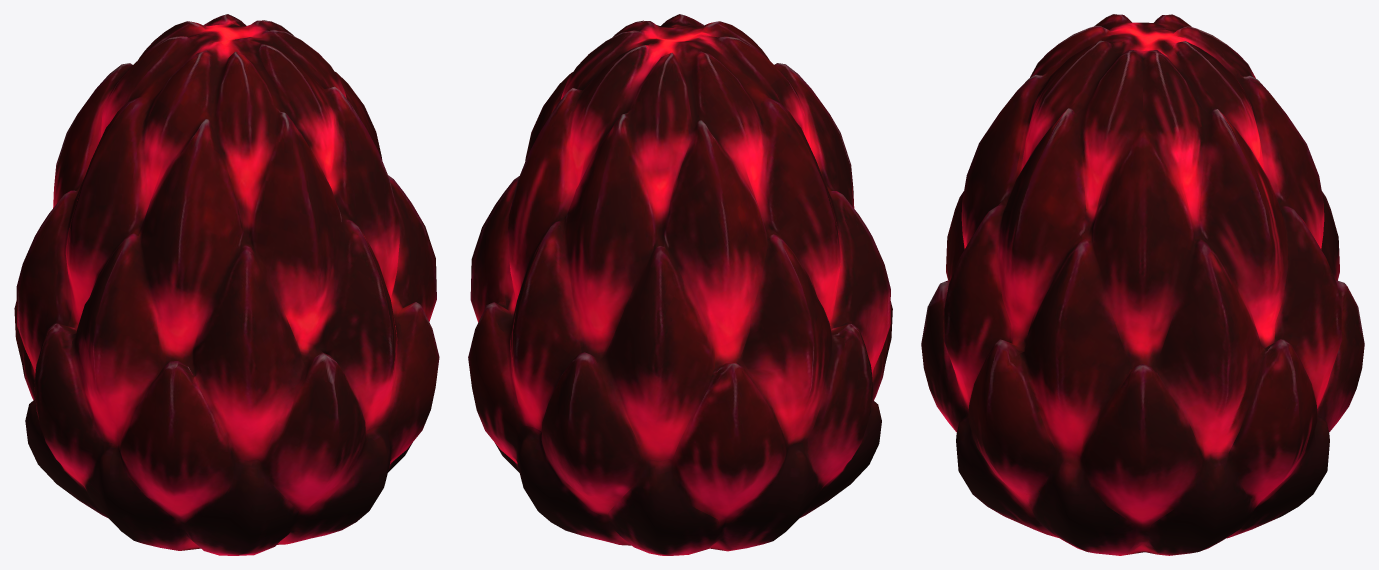
The picture shows the model from 3 angles, left to right: view 1: azimuth 30°, elevation 25°; view 2: azimuth 150°, elevation 25°; view 3: azimuth 270°, elevation 25°; orthographic projection.
Visible parts, largest first — view 1: egg_low_poly; view 2: egg_low_poly; view 3: egg_low_poly.
Boxes of the visible parts, box(x1,y1,x2,y2) form: egg_low_poly: box(14, 14, 439, 555); egg_low_poly: box(468, 14, 892, 555); egg_low_poly: box(921, 14, 1364, 555).
Bounding box in the file's own units: 15.24 × 18.82 × 15.24.
1 material, 1 textured.
